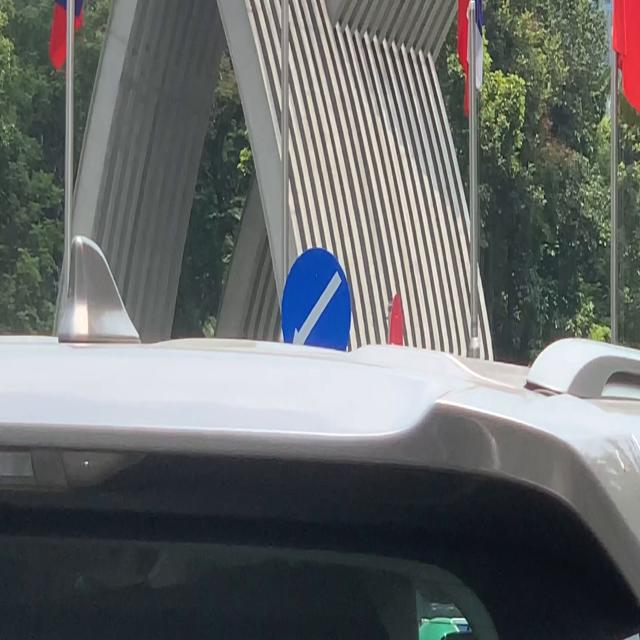Hieu lenh: (281, 246, 351, 376)
